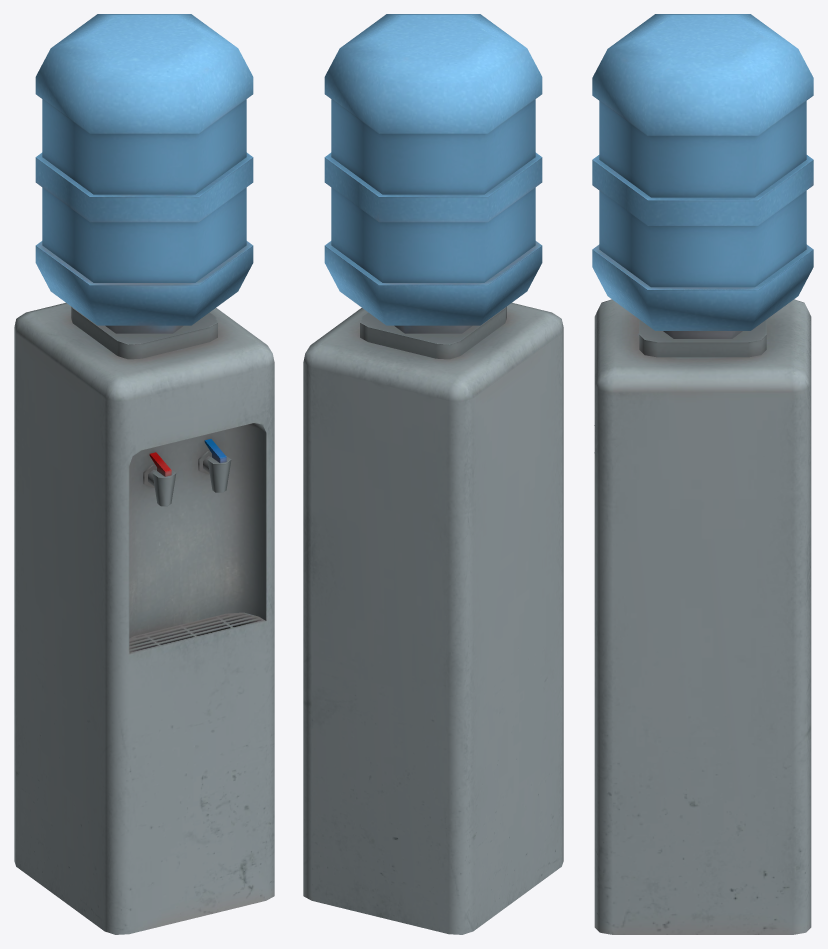
Rendered from water_cooler.glb.
3 renders of one model, left to right at view 1: azimuth 30°, elevation 25°; view 2: azimuth 150°, elevation 25°; view 3: azimuth 270°, elevation 25°, orthographic.
Parts seen in each view (by area): view 1: water_cooler; view 2: water_cooler; view 3: water_cooler.
Part boxes in pixels (x1=…): water_cooler: x1=14, y1=14, x2=274, y2=934; water_cooler: x1=303, y1=14, x2=563, y2=934; water_cooler: x1=592, y1=14, x2=813, y2=934.
Size of the model in its own units: 0.3388 by 1.62 by 0.3795.
Materials: 1 (1 with a texture image).
